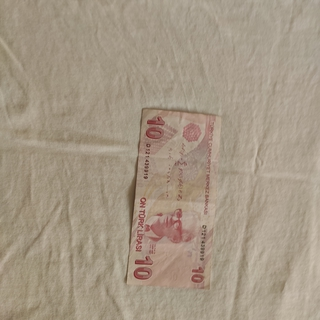10TLBack: (125, 106, 223, 290)
